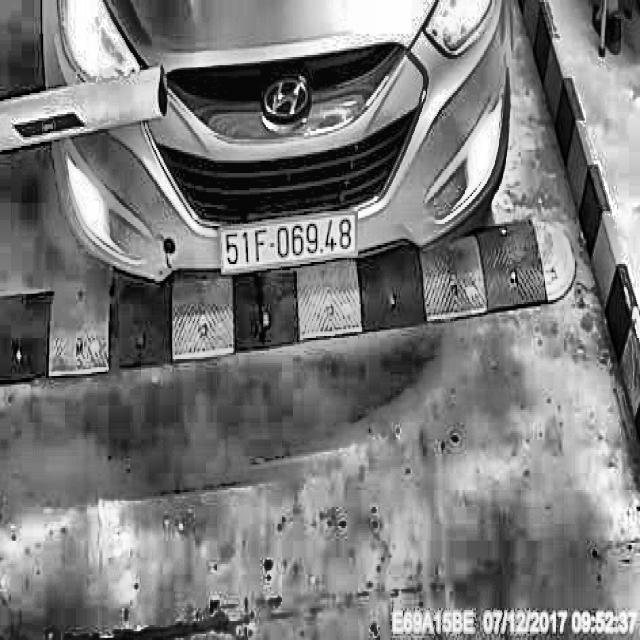plate: (213, 206, 361, 280)
